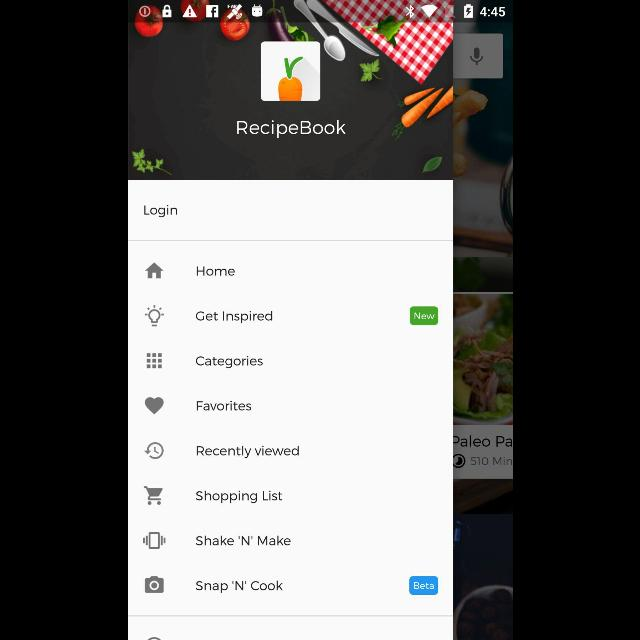icon: (144, 486, 162, 506), (143, 442, 163, 460), (144, 397, 164, 415), (144, 262, 164, 278), (144, 576, 162, 592), (146, 353, 162, 369)
image: (128, 23, 452, 180), (260, 41, 320, 100), (144, 305, 164, 327), (142, 532, 166, 548)
panel: (128, 22, 452, 640)
text: (237, 120, 346, 138), (195, 446, 298, 458), (195, 580, 282, 594), (195, 491, 282, 504), (194, 310, 272, 324), (194, 536, 290, 546), (194, 356, 262, 368), (196, 401, 250, 412), (143, 205, 177, 218), (196, 266, 234, 276)
textbutton: (409, 306, 437, 326), (408, 576, 438, 594)
uppertaskbar: (128, 1, 512, 23)
